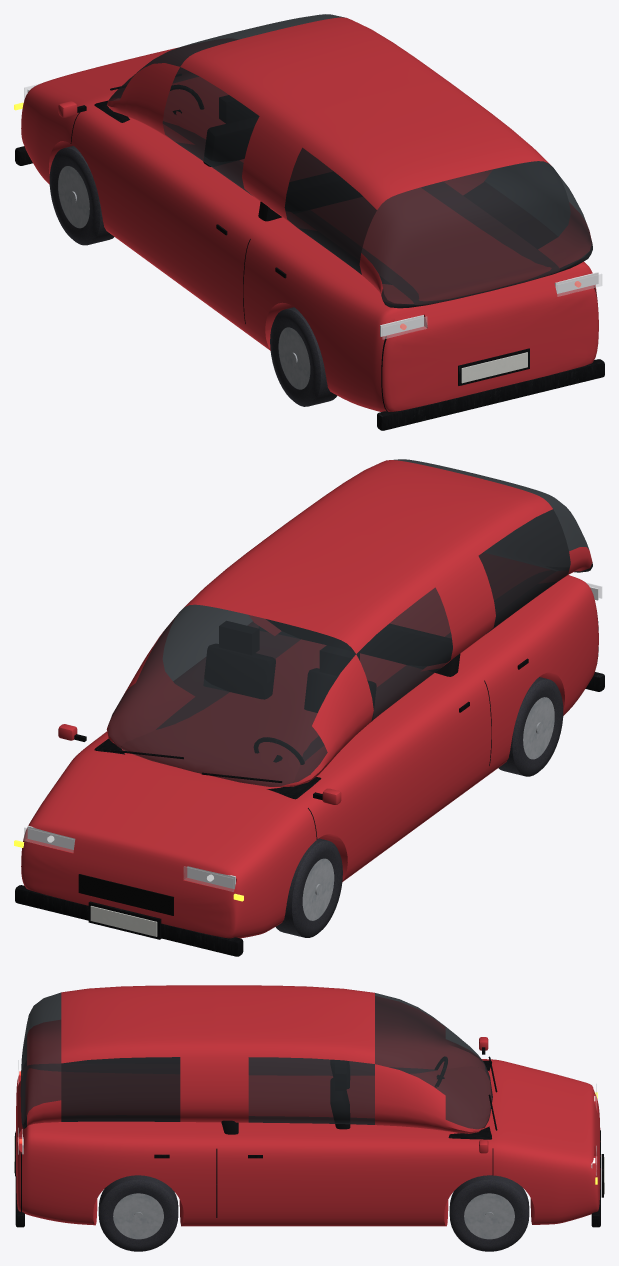
The model's file is minivan_red.gltf.
The picture shows the model from 3 angles, top to bottom: view 1: azimuth 30°, elevation 25°; view 2: azimuth 150°, elevation 25°; view 3: azimuth 270°, elevation 25°; orthographic projection. The views are drawn at different scales.
Visible parts, largest first — view 1: minivan_red; view 2: minivan_red; view 3: minivan_red.
Part boxes in pixels (bbox=[...]): minivan_red: bbox=[14, 14, 604, 430]; minivan_red: bbox=[14, 459, 604, 956]; minivan_red: bbox=[14, 985, 604, 1251].
Bounding box in the file's own units: 2.2 × 1.82 × 5.05.
Materials: 17 (8 with a texture image).
